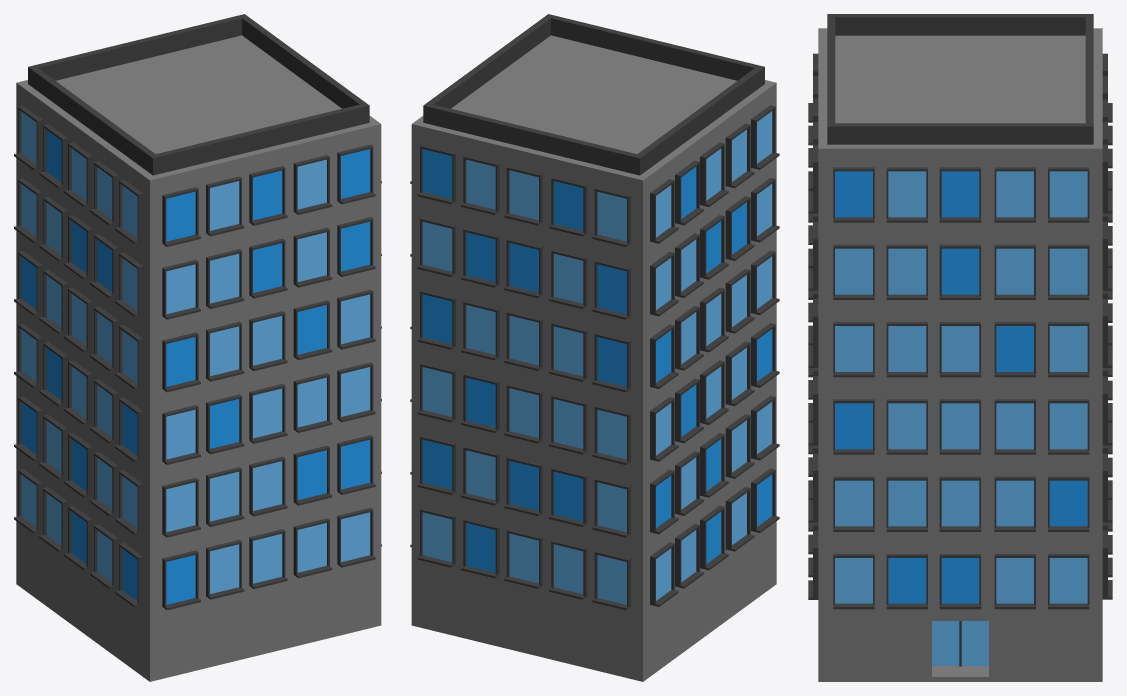
File: building_02.fbx
The picture shows the model from 3 angles, left to right: view 1: azimuth 30°, elevation 25°; view 2: azimuth 150°, elevation 25°; view 3: azimuth 270°, elevation 25°; orthographic projection. The views are drawn at different scales.
Visible parts, largest first — view 1: building_02; view 2: building_02; view 3: building_02.
Part boxes in pixels (left/top/right/bottom): building_02: left=14, top=14, right=381, bottom=681; building_02: left=410, top=14, right=779, bottom=681; building_02: left=808, top=14, right=1112, bottom=681.
Size of the model in its own units: 1072 by 2142 by 1072.
Materials: 1 (1 with a texture image).
